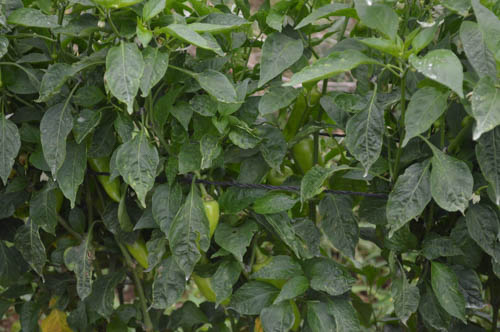ChiliPepper: (89, 147, 123, 203), (198, 201, 221, 249), (125, 233, 152, 267)
